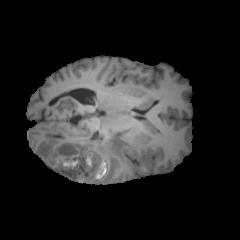glioma: (39, 128, 131, 182)
